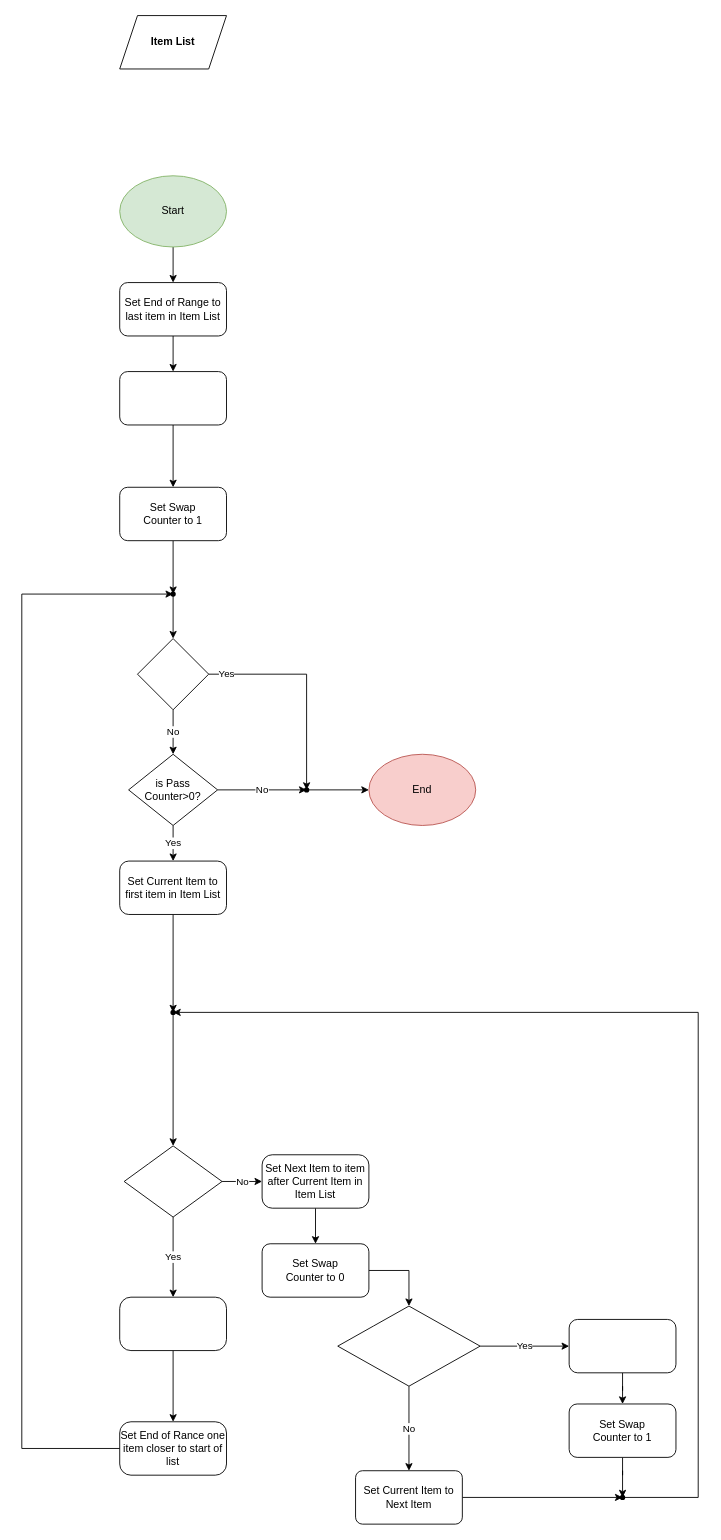
This 721x1540 diagram has some shape labels left out. Here are the shapes that lost their labels. From the top down, the box of each, then its label:
(119, 371, 227, 425): Set Pass Counter to length of list-1
(137, 638, 209, 710): is Swap Counter 0?
(123, 1145, 222, 1217): Is Current Item the End of Range?
(119, 1296, 227, 1351): Subtract 1 from Pass Counter
(337, 1305, 480, 1386): Does Current Item need to be swapped with Next Item
(568, 1319, 676, 1373): Swap Current Item and Next Item
